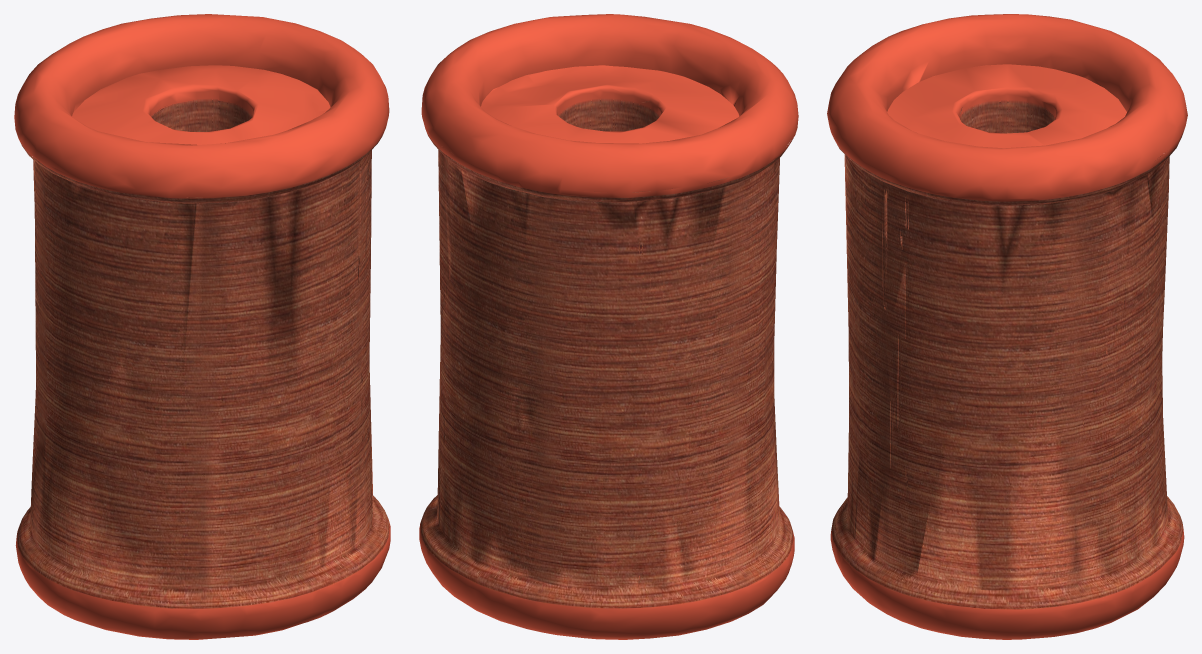
File: copper-silk-fast.mobile.glb
3 views of the same model, side by side, from view 1: azimuth 30°, elevation 25°; view 2: azimuth 150°, elevation 25°; view 3: azimuth 270°, elevation 25° (orthographic).
Parts seen in each view (by area): view 1: world; view 2: world; view 3: world.
Boxes of the visible parts, left/top/right/bottom form: world: left=14, top=14, right=390, bottom=639; world: left=419, top=14, right=798, bottom=639; world: left=827, top=14, right=1187, bottom=639.
Size of the model in its own units: 0.7054 by 1 by 0.6703.
Materials: 2 (1 with a texture image).
